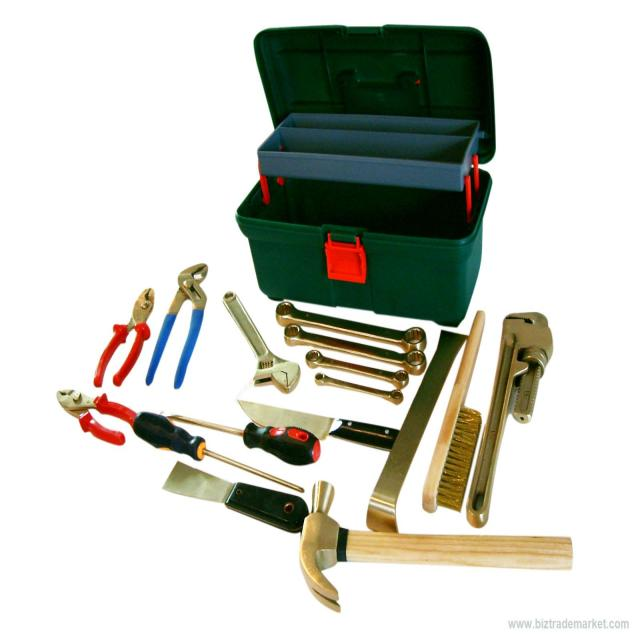hammer: (299, 476, 572, 610)
ring_spanner: (275, 301, 438, 348)
screw_driver: (127, 411, 315, 494), (167, 414, 324, 461)
tool_box: (234, 26, 498, 330)
wire_cutter: (144, 261, 209, 392), (91, 286, 156, 388)
wrench: (222, 290, 302, 394)
